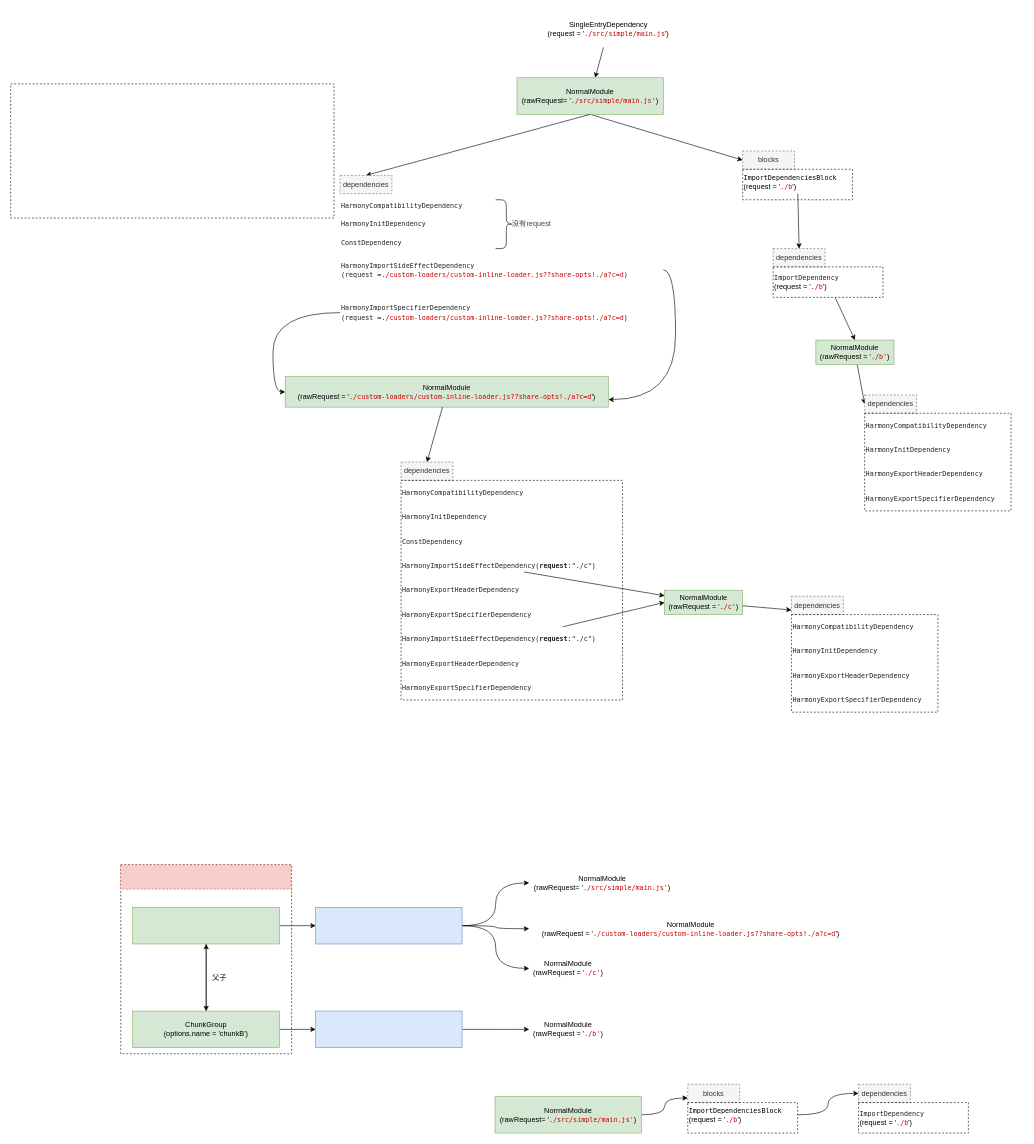
Image size: 1034x1144. Some labels were removed from this diagram. Here are the shapes that lost their labels. From the top down, the centre of each, then its label:
At point 205,876: "chunk graph".
At point 206,925: "ChunkGroup (options.name = 'chunkMain')".
At point 388,925: "Chunk (name = 'chunkMain')".
At point 388,1029: "Chunk (name = 'chunkB')".
